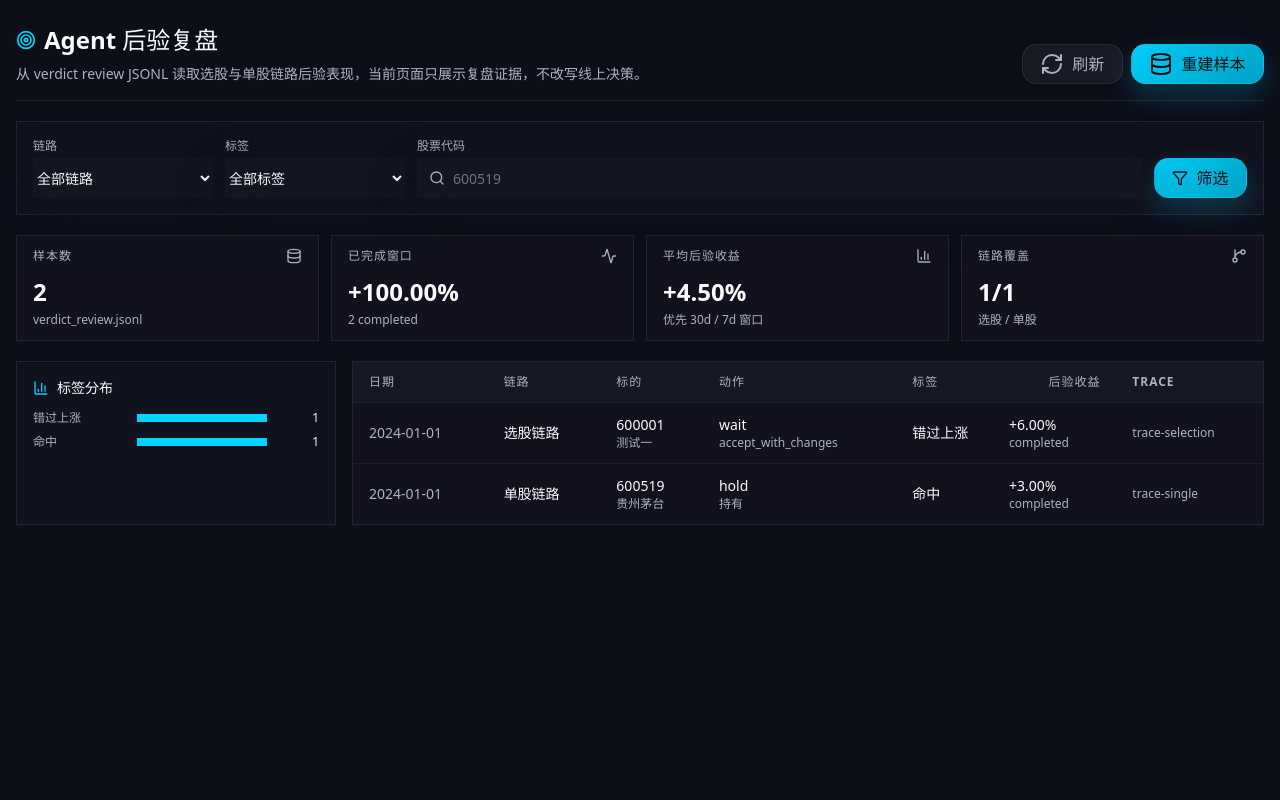
it: AgentVerdictReviewsPage › rebuilds review samples and reloads the list
This screenshot has width=1280, height=800.
expect the heading "Agent 后验复盘" is shown: met, box [44, 24, 218, 56]
Step 1. Click the button "重建样本" → point(1197, 64), box [1131, 44, 1264, 84]
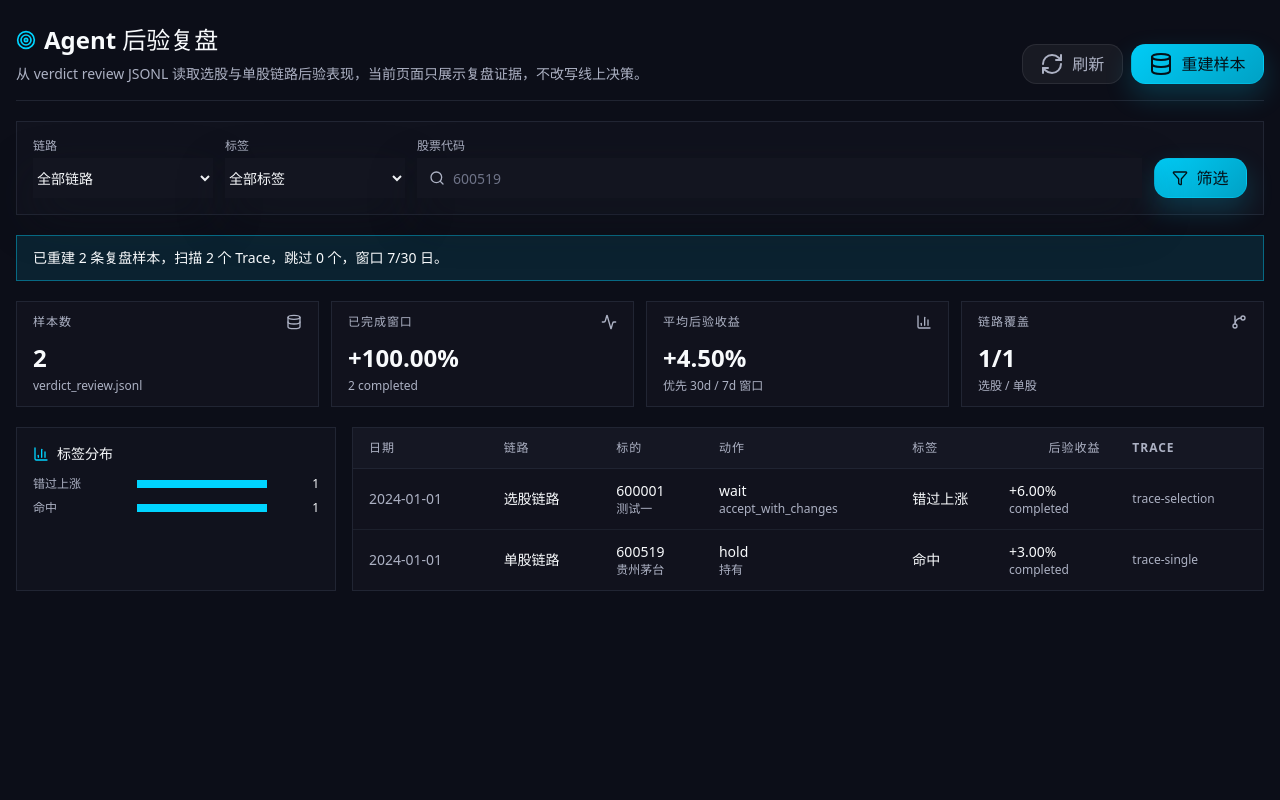
expect the text "已重建 2 条复盘样本，扫描 2 个 Trace，跳过 0 个，窗口 7/30 日。" is shown: met, box [16, 235, 1264, 281]
